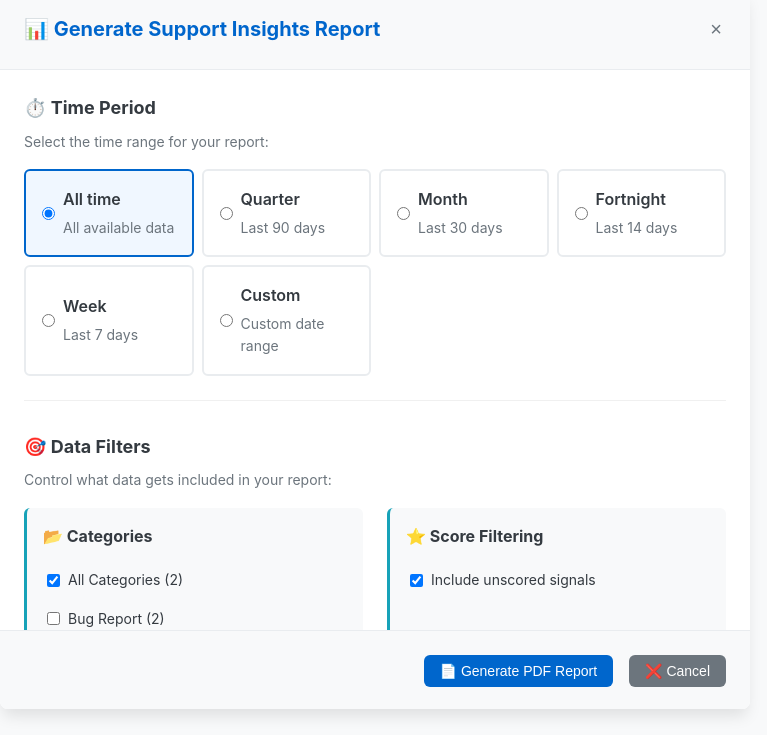
Test case: ReportGenerationModal › Preview Functionality › updates preview when period changes
Expected: the text "All available data" is shown, [63,217,176,239]
# Change to week (this will show a warning since no signals in last 7 days)
Click the radio button showing "week". click: click(48, 320)
box: [42,314,55,327]
(page scrolled)
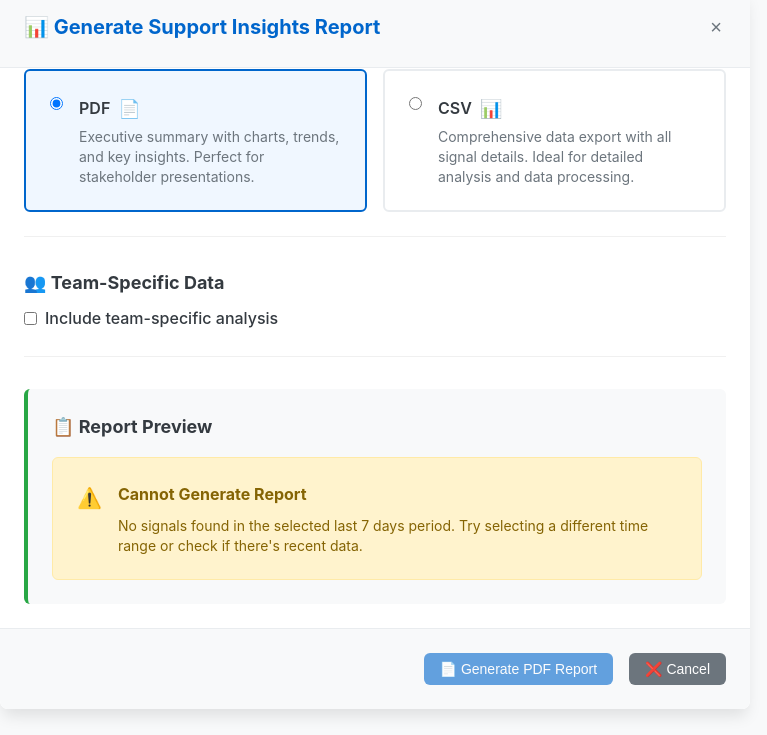
Result: the icon "⚠️" is shown at [77,482,102,514]
Result: the text "No signals found in the selected" is shown at [118,517,648,554]
